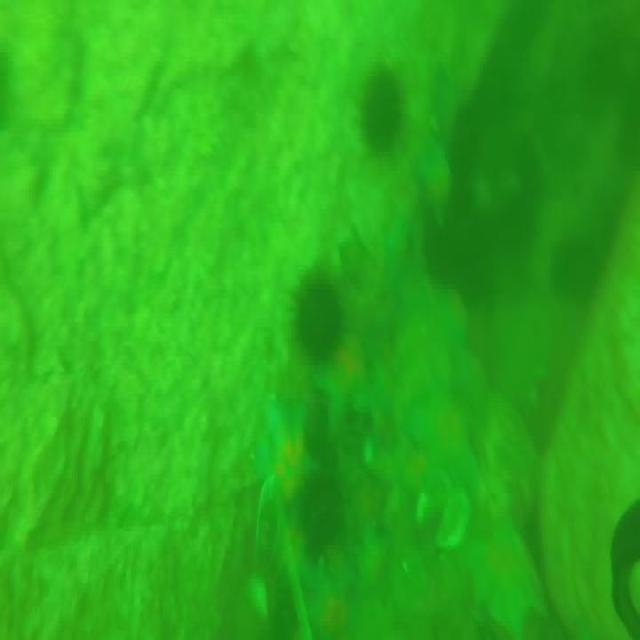echinus: (244, 406, 320, 512), (287, 269, 346, 365), (296, 472, 349, 558), (359, 66, 405, 154), (296, 573, 354, 640)
